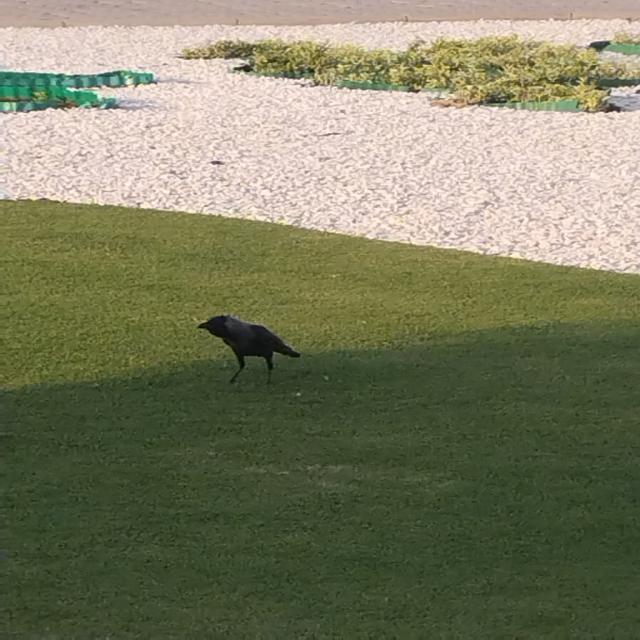bird: (194, 312, 302, 391)
